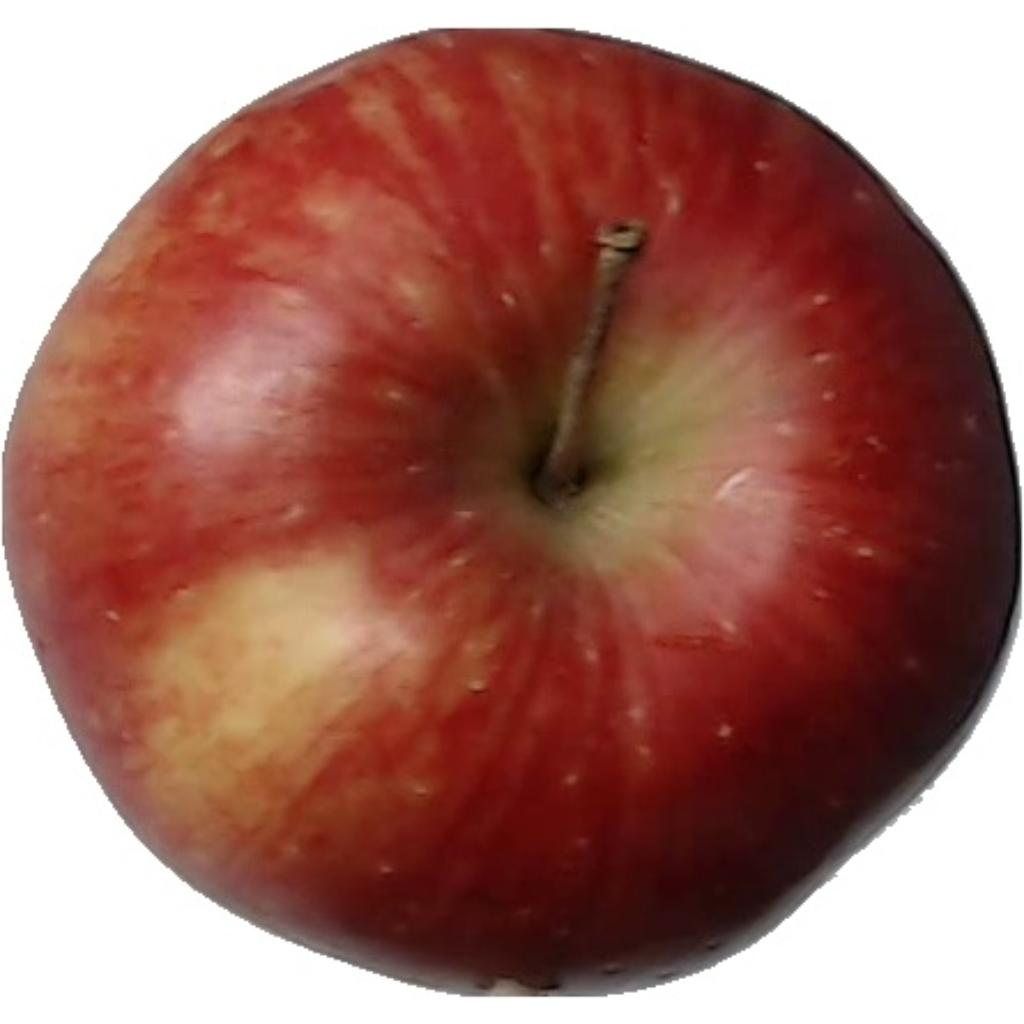apple: (4, 31, 1020, 990)
